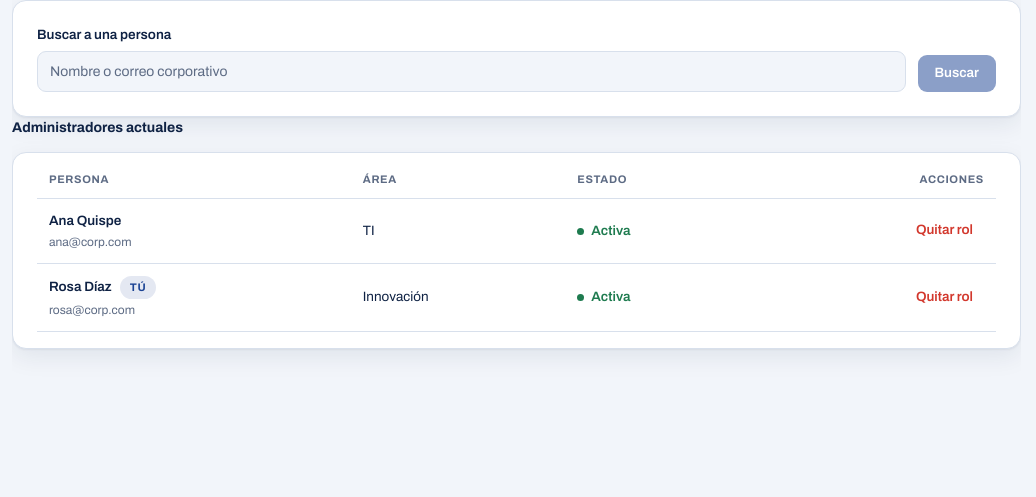
Scenario: <AdministradoresAdmin /> — la búsqueda › muestra a quien encontró
Type "beto" into the field labelled "Buscar a una persona".
click(471, 72); type("beto")  # box [37, 51, 906, 92]
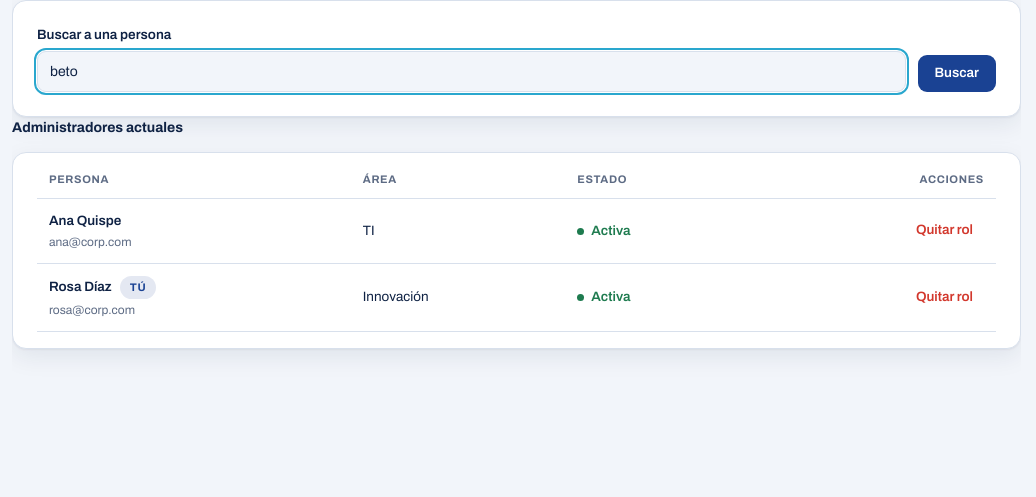
Click the button "Buscar".
click(957, 74)  # box [918, 55, 996, 92]
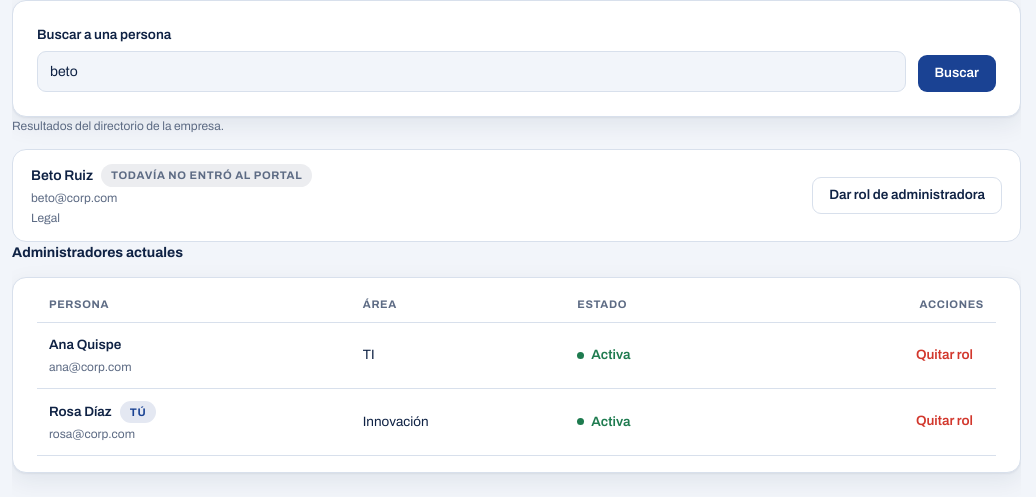
Expected: the text "Beto Ruiz" is shown, [31, 168, 93, 183]
Expected: the text "beto@corp.com" is shown, [31, 191, 117, 205]
